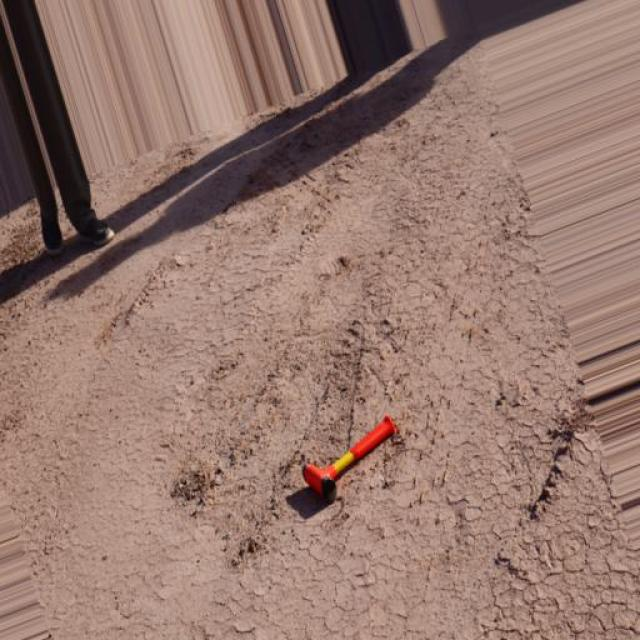mallet: (300, 412, 398, 502)
